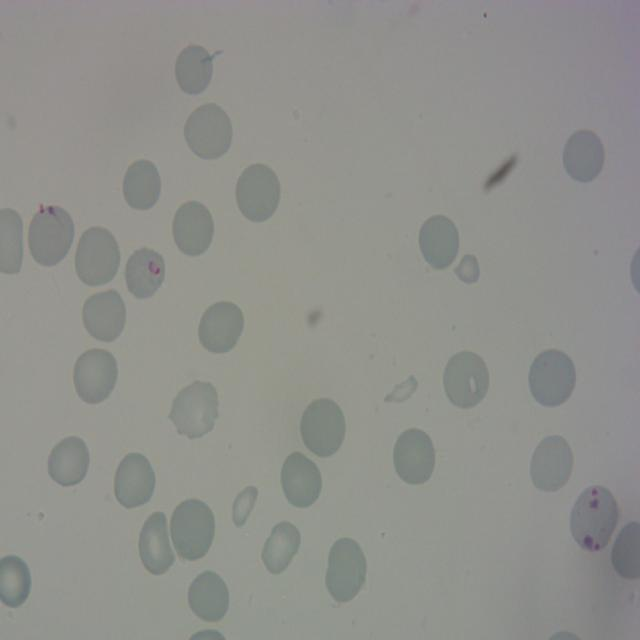leukocyte: (169, 378, 221, 442), (526, 346, 578, 410), (230, 159, 281, 224), (441, 346, 491, 412), (322, 535, 368, 606), (298, 395, 348, 460), (182, 99, 232, 164), (73, 223, 122, 289), (168, 497, 217, 563), (70, 344, 119, 407), (528, 432, 576, 495), (111, 448, 158, 512), (136, 508, 178, 578), (391, 425, 437, 488), (170, 197, 216, 260), (560, 125, 607, 186), (80, 286, 128, 345), (416, 211, 462, 272), (45, 431, 92, 489), (185, 568, 231, 626), (279, 448, 322, 509), (198, 300, 244, 352), (262, 521, 301, 574), (174, 44, 213, 96), (124, 159, 161, 213), (229, 484, 259, 530), (455, 252, 482, 286)
red blood cell: (568, 482, 619, 553), (24, 202, 76, 269), (123, 244, 167, 302)
